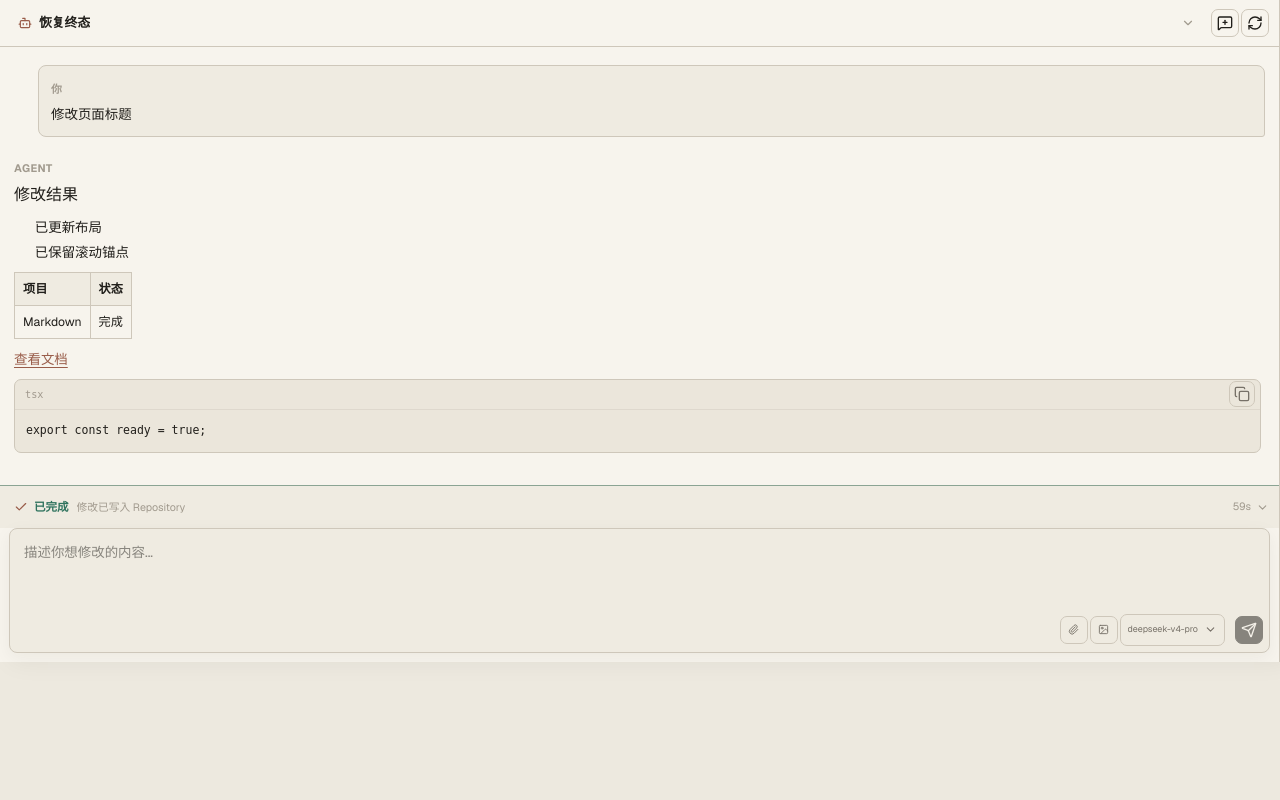
Test: AgentPanel › 使用 GFM 渲染持久化回复并支持复制 fenced code
This screenshot has width=1280, height=800.
Expected: the heading "修改结果" is shown, [14, 184, 78, 204]
Expected: the list is shown, [35, 218, 129, 261]
Step 1. Click the button named "复制代码" → [1242, 394], box [1229, 381, 1255, 407]
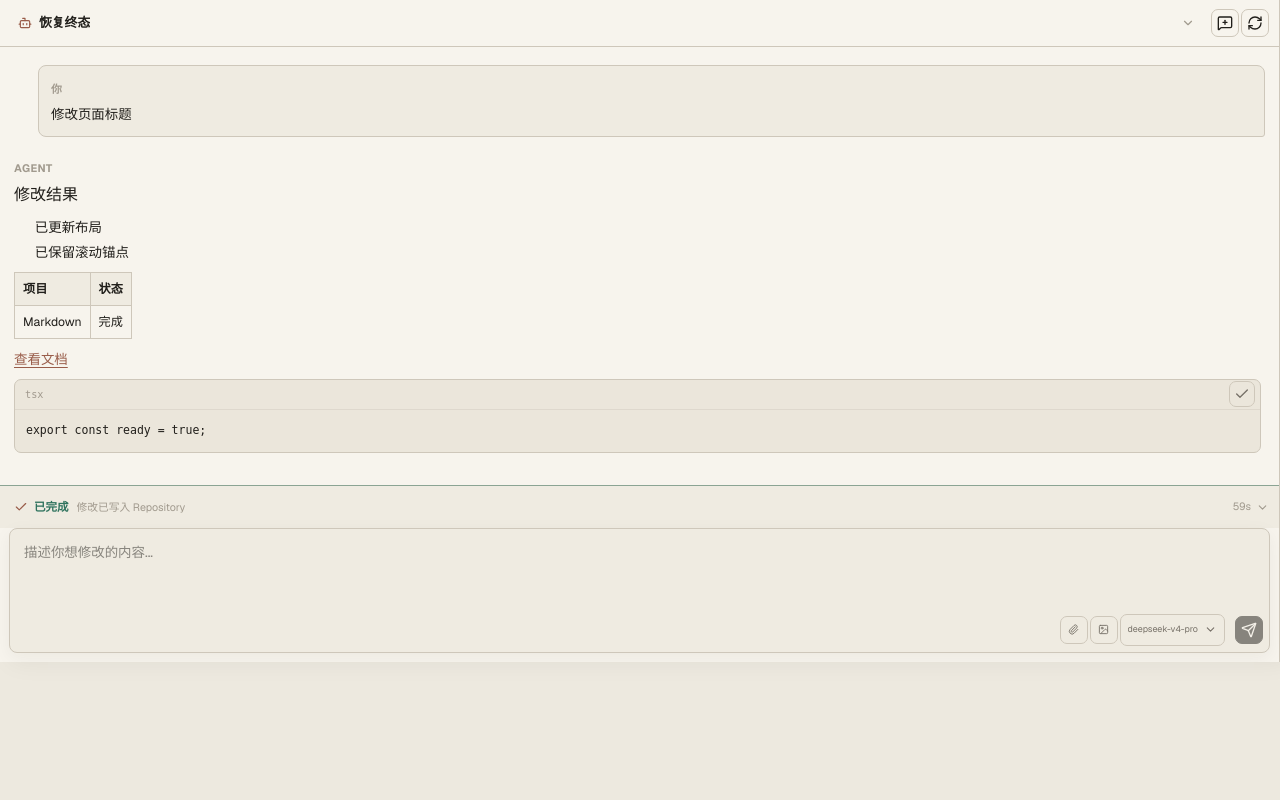
Now the button named "代码已复制" is shown, box [1229, 381, 1255, 407]
